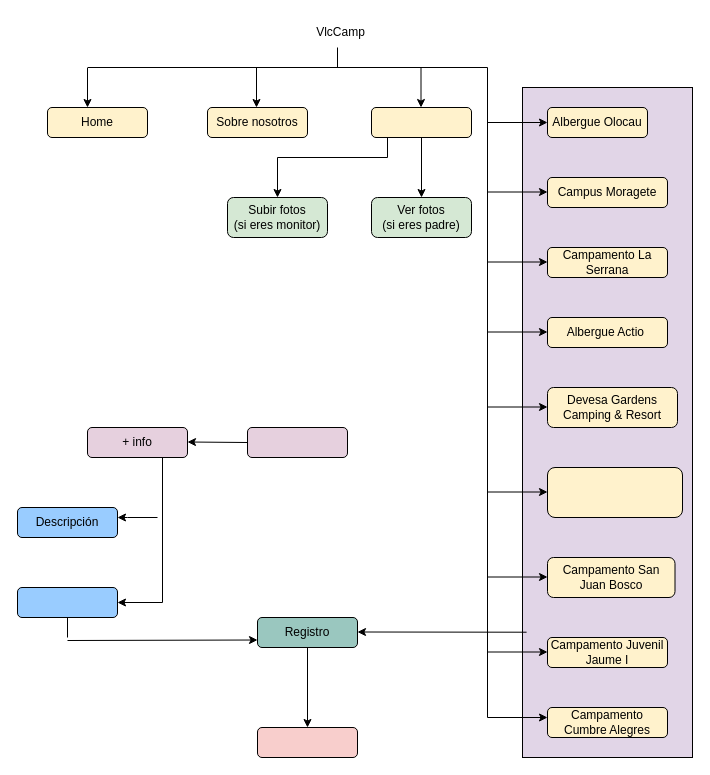
The diagram is 710 pixels wide and 775 high, and some of its shapes have lost their labels. Here are the shapes that lost their labels. From the top down, the centre of each, then its label:
pixel 421 122: Inicio Sesión
pixel 297 442: Ubicación
pixel 614 492: Centro de vacaciones Embalse de Benagéber
pixel 67 602: Horario
pixel 307 742: Formulario
